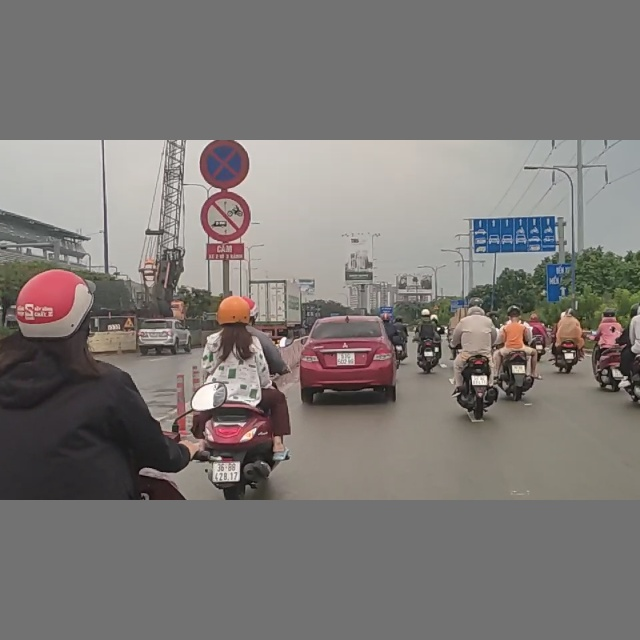P.111: (202, 191, 250, 242)
P.130: (200, 141, 249, 188)
